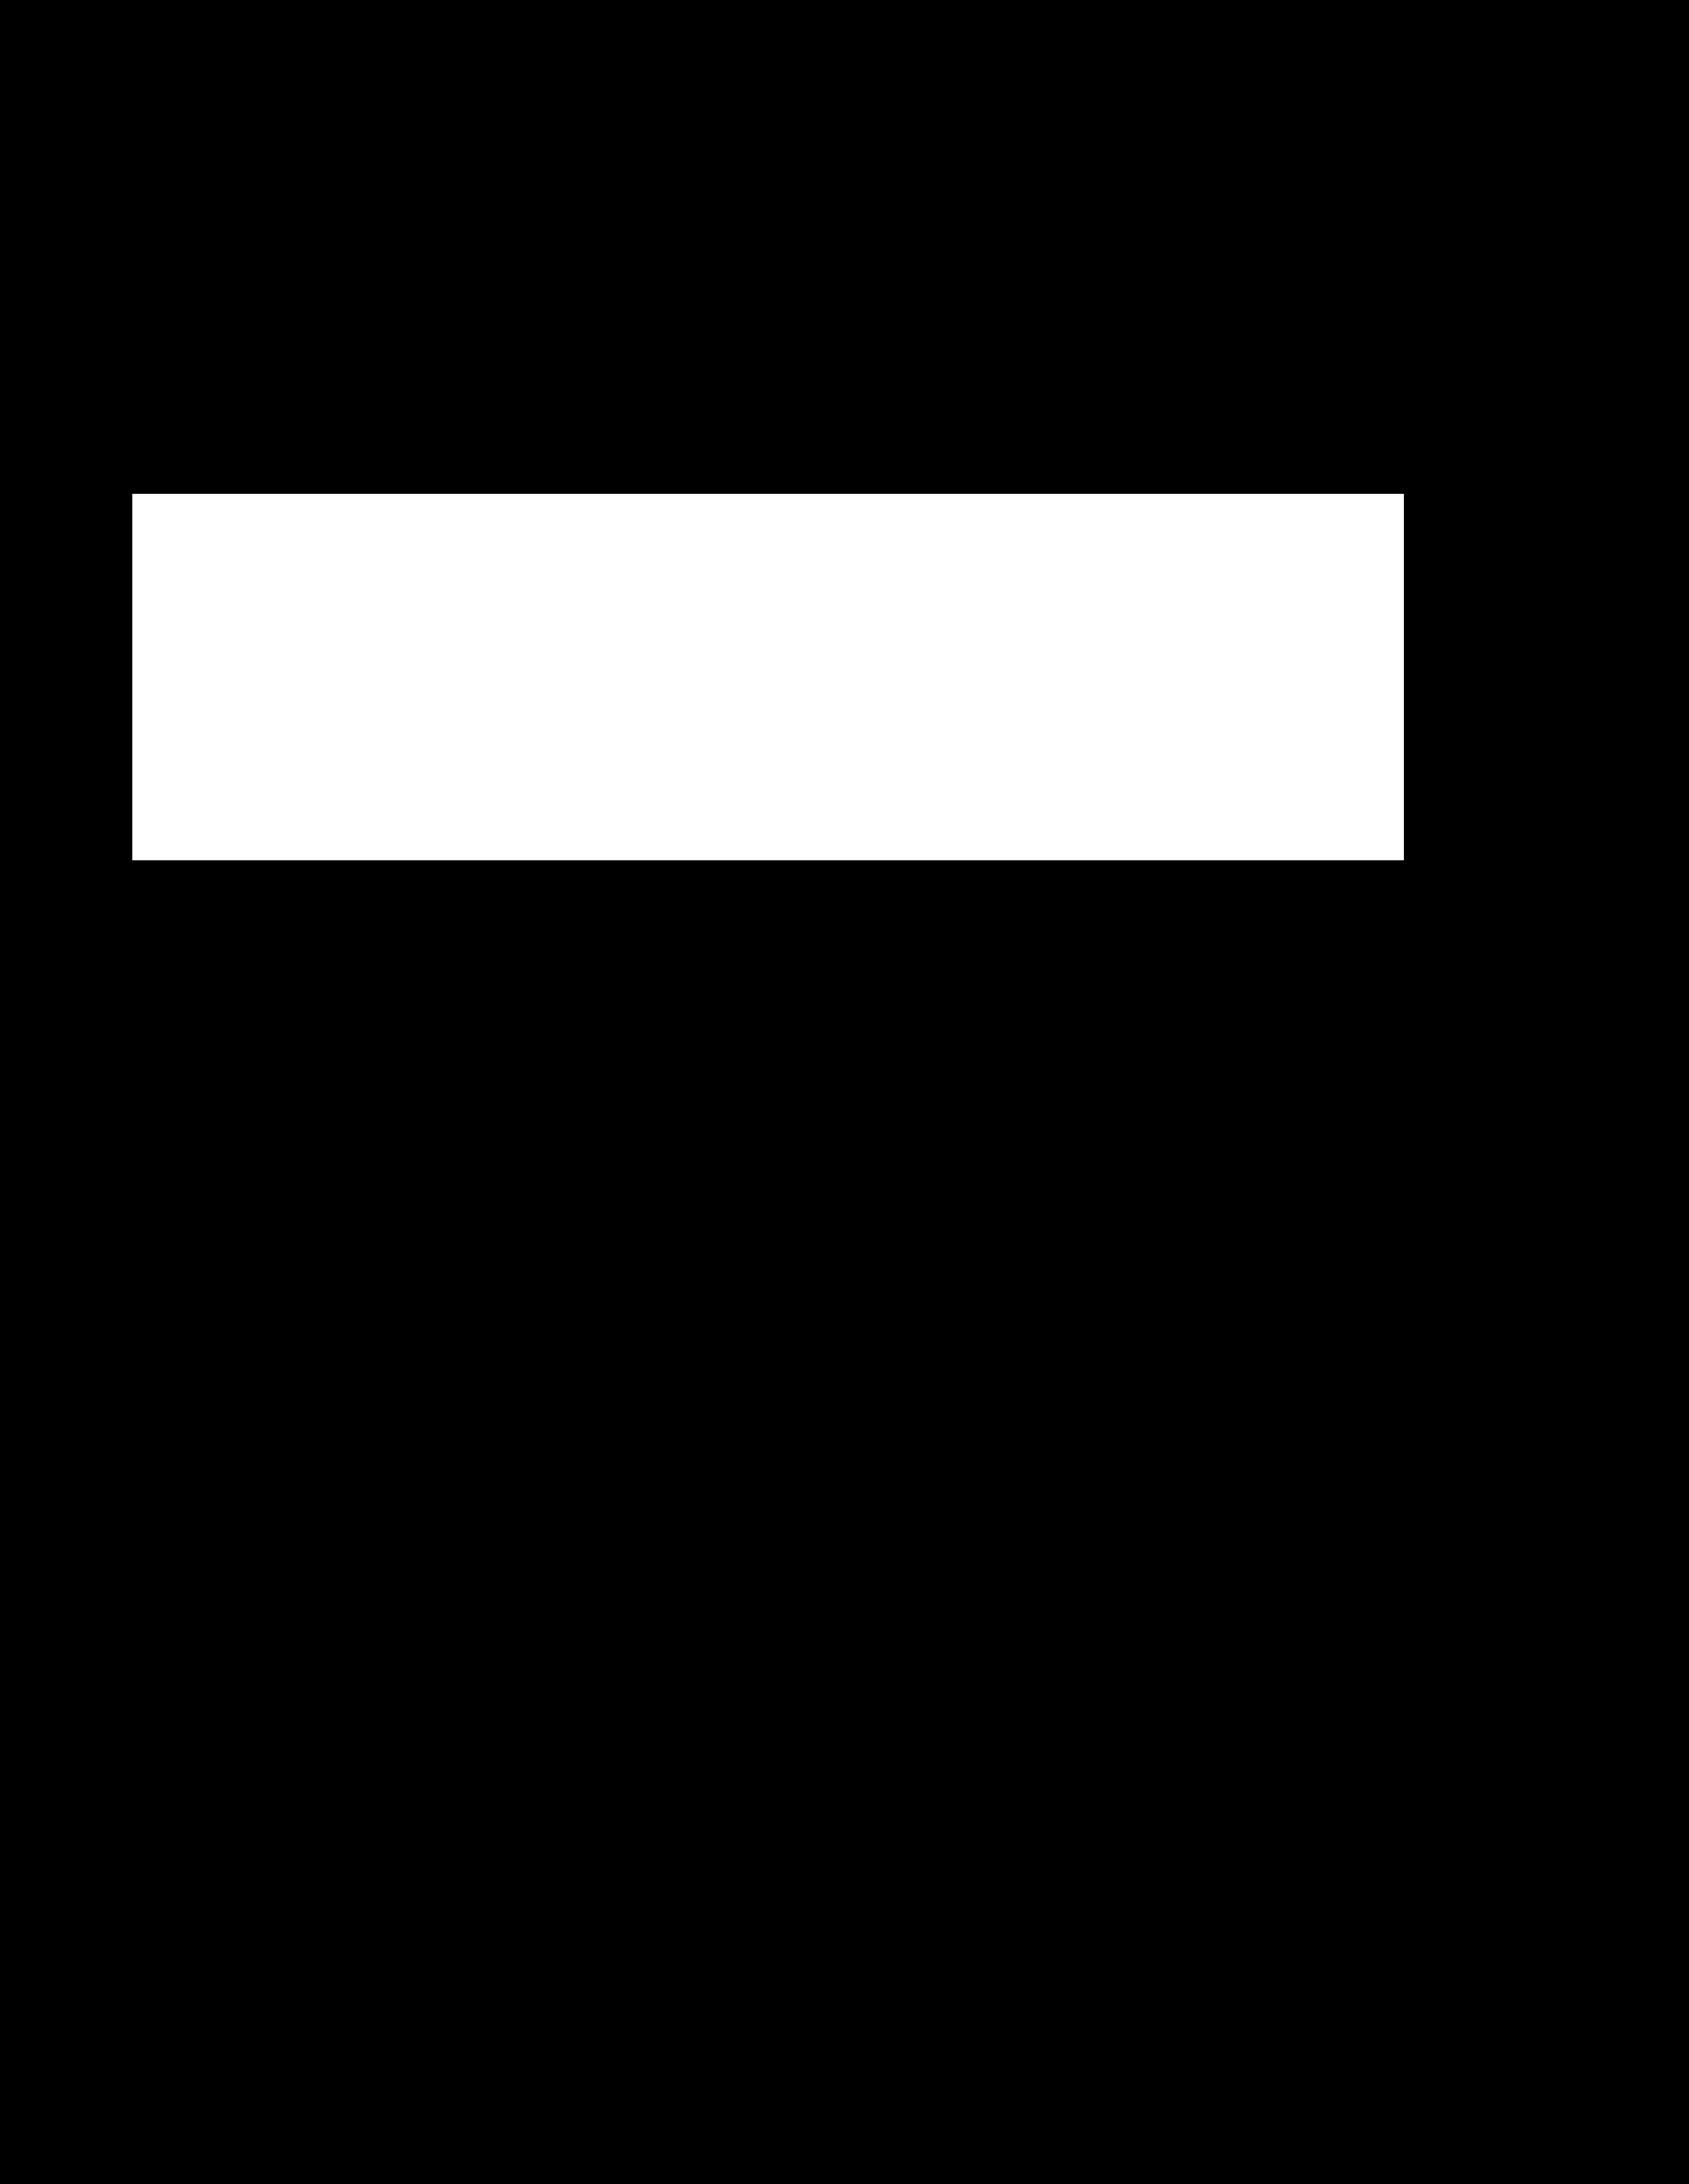table: (133, 495, 1404, 860)
